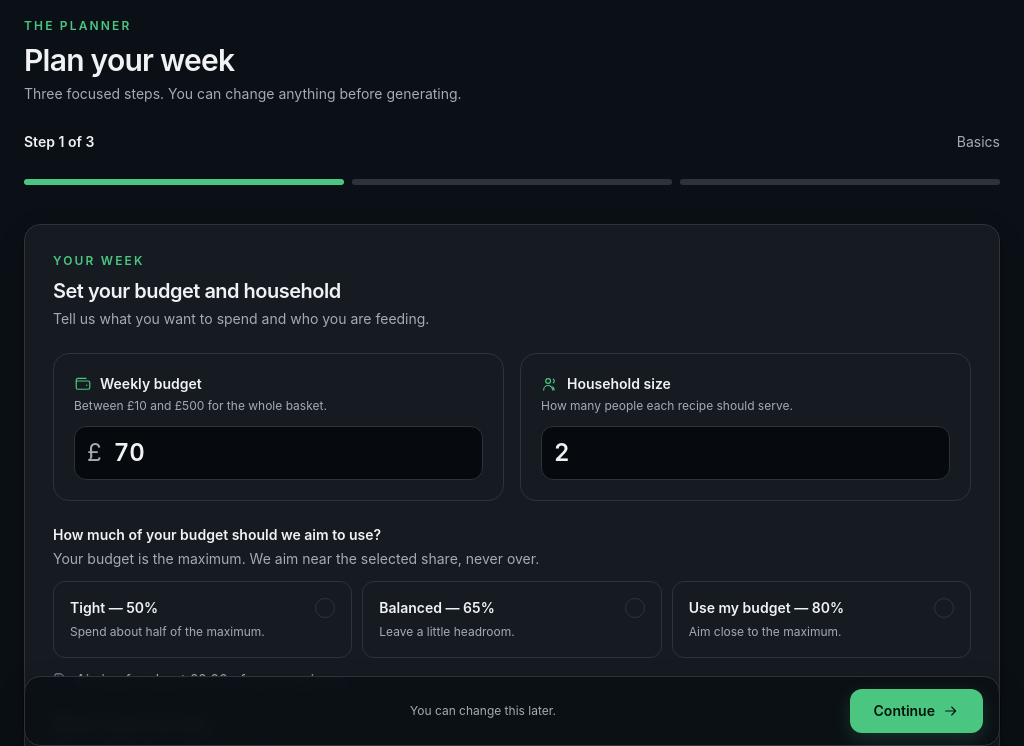
App › renders all seven days and the grouped shopping list
Click the button "Continue" at (916, 711), box [850, 689, 983, 733]
(page scrolled)
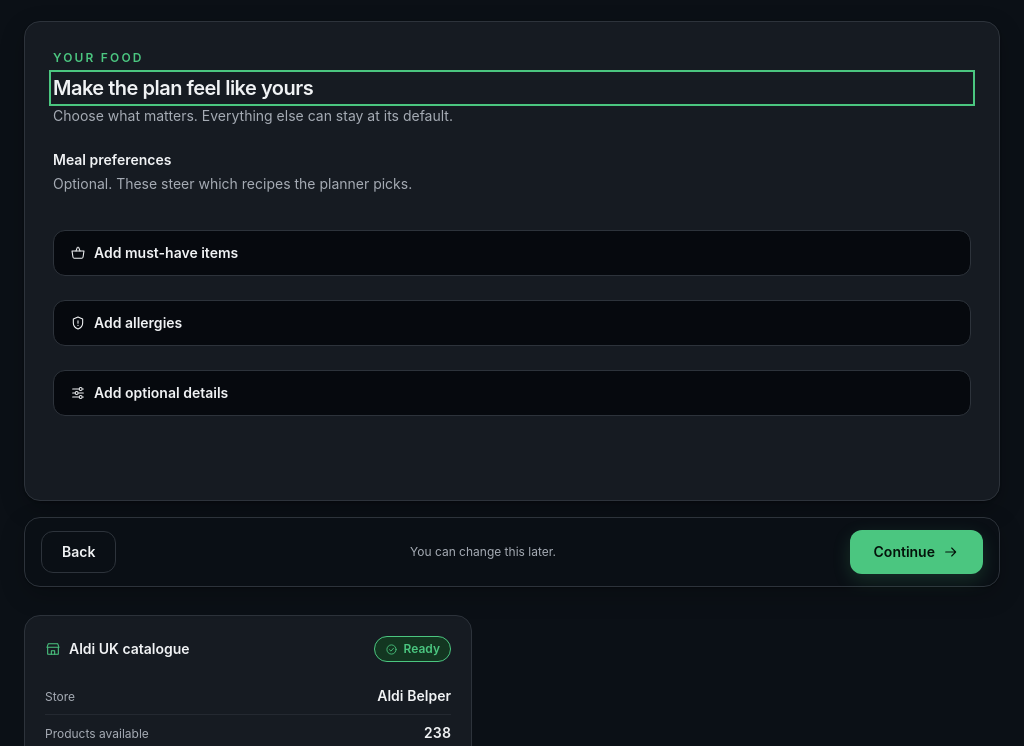
Click the button "Continue" at (916, 552), box [850, 530, 983, 574]
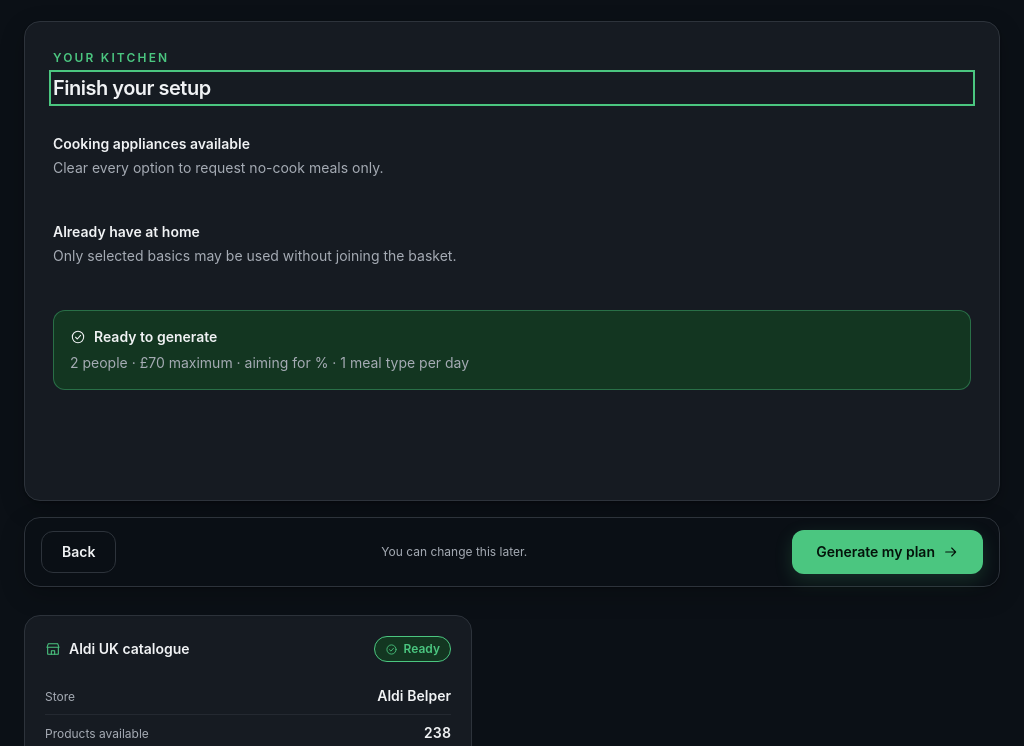
Click the button "Generate my plan" at (888, 552), box [792, 530, 983, 574]
(page scrolled)
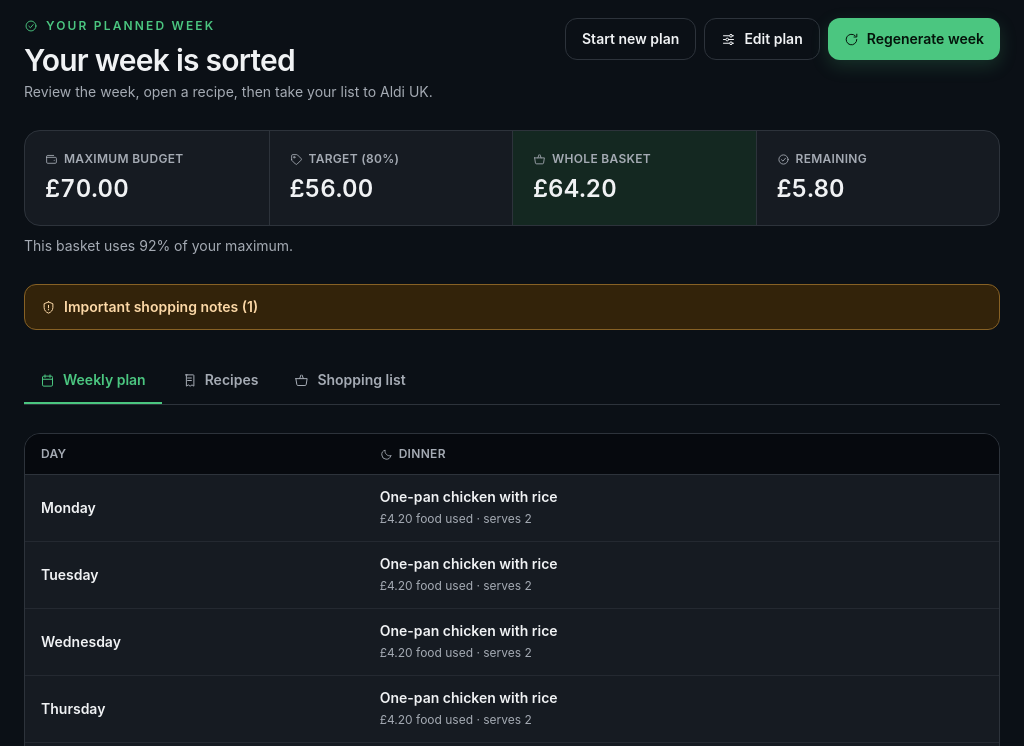
Expected: the heading "Your week is sorted" is shown, [24, 42, 295, 78]
Click the tab "Shopping list" at (350, 381), box [278, 358, 422, 404]
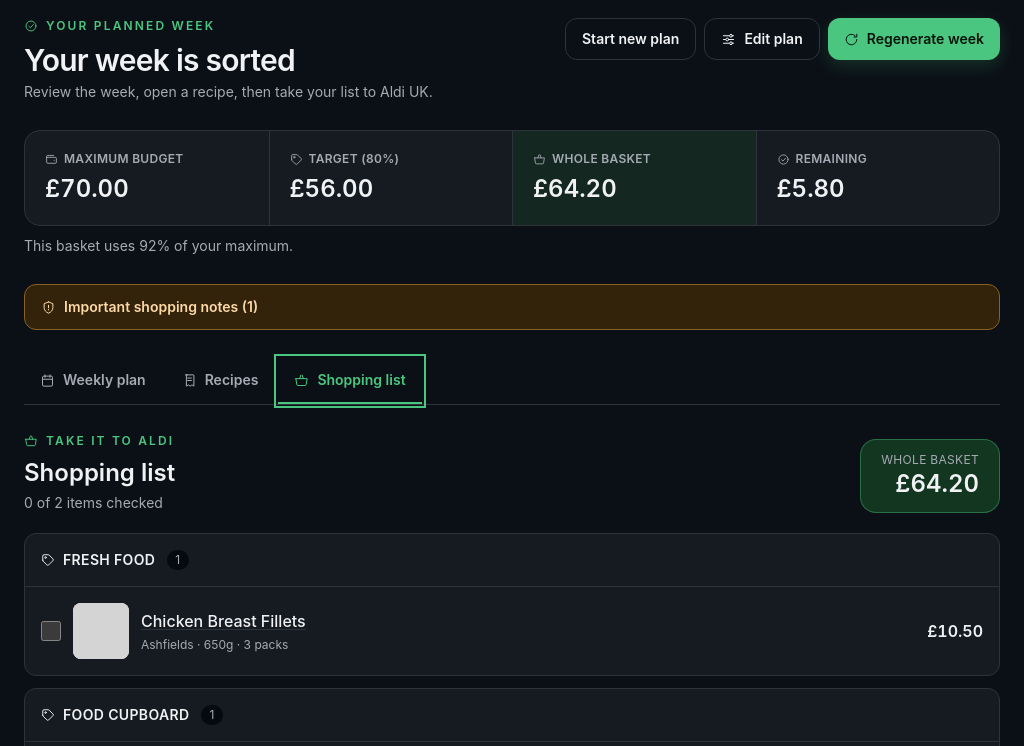
Expected: the heading "Fresh Food 1" is shown, [41, 550, 188, 570]
Expected: the heading "Food Cupboard 1" is shown, [41, 705, 223, 725]
